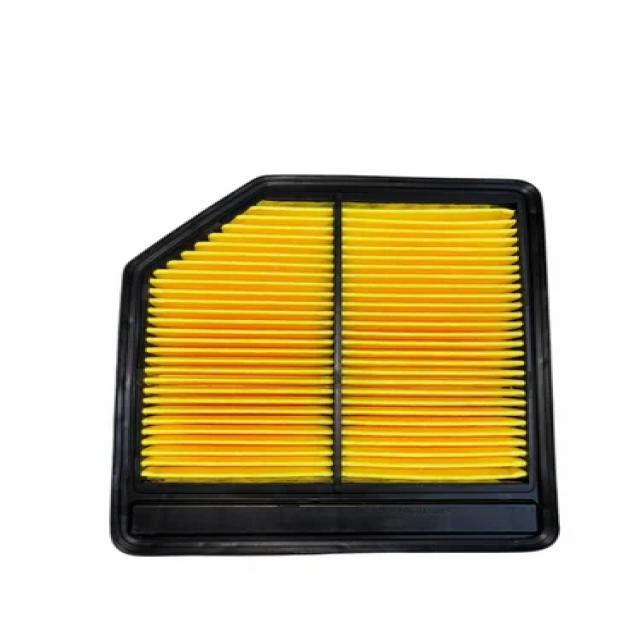air_filter: (100, 168, 564, 574)
